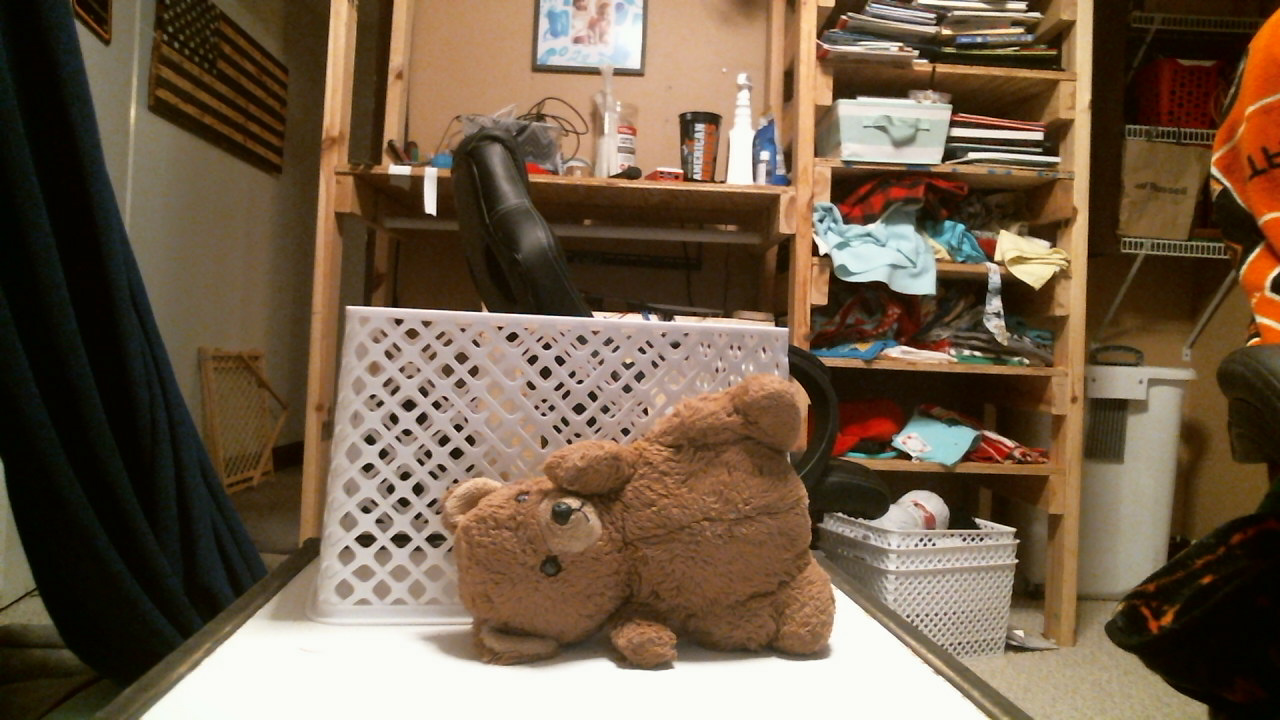Little_Mister_Bear: (514, 486, 636, 589)
